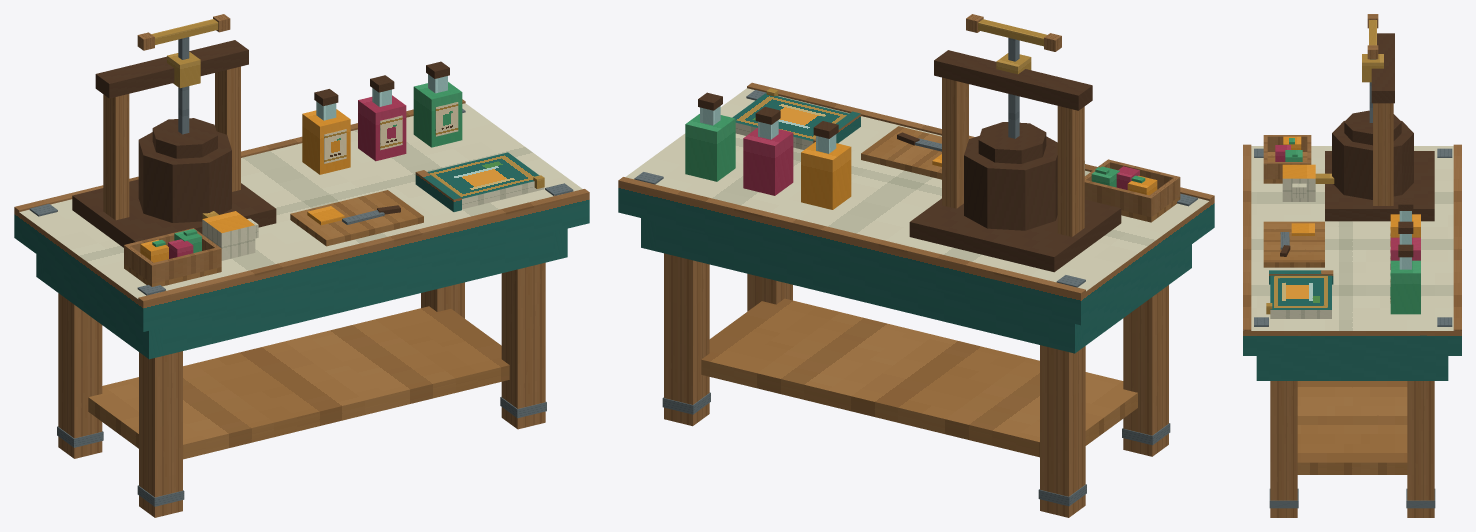
Rendered from juice_table_item.obj.
The picture shows the model from 3 angles, left to right: view 1: azimuth 30°, elevation 25°; view 2: azimuth 150°, elevation 25°; view 3: azimuth 270°, elevation 25°; orthographic projection. The views are drawn at different scales.
Visible parts, largest first — view 1: part_1_clean_countertop, part_8_single_lower_shelf, part_7_simple_apron_13, part_3_simple_leg_2_12, part_5_simple_leg_28_12, part_27_low_poly_eight_sided_press_barrel, part_2_simple_leg_2_2, part_22_press_base, part_62_recipe_book_pages_and_painted_cover, part_58_oak_chopping_board, part_25_press_crossbeam, part_23_press_support_3_5 (+18 smaller); view 2: part_1_clean_countertop, part_8_single_lower_shelf, part_6_simple_apron_2, part_22_press_base, part_2_simple_leg_2_2, part_4_simple_leg_28_2, part_27_low_poly_eight_sided_press_barrel, part_3_simple_leg_2_12, part_25_press_crossbeam, part_23_press_support_3_5, part_17_oak_breadboard_edge_0, part_24_press_support_11_5 (+12 smaller); view 3: part_1_clean_countertop, part_8_single_lower_shelf, part_20_end_apron_29, part_27_low_poly_eight_sided_press_barrel, part_4_simple_leg_28_2, part_5_simple_leg_28_12, part_22_press_base, part_62_recipe_book_pages_and_painted_cover, part_58_oak_chopping_board, part_24_press_support_11_5, part_17_oak_breadboard_edge_0, part_18_oak_breadboard_edge_15_4 (+13 smaller).
Boxes of the visible parts, x1,y1,x2,y2 form: part_1_clean_countertop: (14,103,589,331); part_8_single_lower_shelf: (88,306,509,459); part_7_simple_apron_13: (163,232,553,355); part_3_simple_leg_2_12: (139,351,182,517); part_5_simple_leg_28_12: (501,262,545,429); part_27_low_poly_eight_sided_press_barrel: (138,131,231,222); part_2_simple_leg_2_2: (58,293,102,458); part_22_press_base: (72,179,276,247); part_62_recipe_book_pages_and_painted_cover: (427,152,544,209); part_58_oak_chopping_board: (290,190,423,246); part_25_press_crossbeam: (95,40,248,98); part_23_press_support_3_5: (103,94,129,220); part_1_clean_countertop: (618,88,1214,325); part_8_single_lower_shelf: (701,298,1137,457); part_6_simple_apron_2: (655,221,1083,353); part_22_press_base: (909,198,1121,272); part_2_simple_leg_2_2: (1040,345,1085,517); part_4_simple_leg_28_2: (664,253,709,426); part_27_low_poly_eight_sided_press_barrel: (964,135,1057,230); part_3_simple_leg_2_12: (1123,285,1168,456); part_25_press_crossbeam: (934,50,1092,110); part_23_press_support_3_5: (1057,106,1084,236); part_17_oak_breadboard_edge_0: (618,177,1085,294); part_24_press_support_11_5: (942,77,968,208); part_1_clean_countertop: (1243,146,1461,355); part_8_single_lower_shelf: (1297,381,1407,474); part_20_end_apron_29: (1256,356,1448,380); part_27_low_poly_eight_sided_press_barrel: (1332,121,1413,199); part_4_simple_leg_28_2: (1407,381,1434,517); part_5_simple_leg_28_12: (1270,381,1297,517); part_22_press_base: (1325,151,1434,221); part_62_recipe_book_pages_and_painted_cover: (1270,275,1331,318); part_58_oak_chopping_board: (1263,221,1324,267); part_24_press_support_11_5: (1373,103,1393,205); part_17_oak_breadboard_edge_0: (1453,144,1461,330); part_18_oak_breadboard_edge_15_4: (1243,144,1251,330).
Bounding box in the file's own units: 1 × 0.91 × 0.5.
